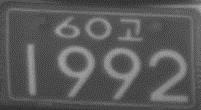0: (84, 16, 112, 41)
1: (18, 42, 47, 97)
2: (148, 48, 189, 104)
6: (54, 15, 80, 40)
9: (56, 45, 96, 98), (102, 47, 141, 99)
고: (116, 18, 143, 42)
